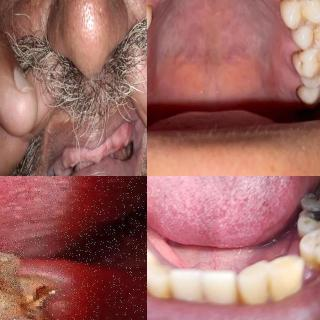cavities: (5, 267, 71, 320)
maligned: (236, 260, 274, 312)
stains: (276, 0, 310, 23), (291, 46, 317, 76), (291, 80, 317, 106), (286, 27, 310, 45), (147, 1, 158, 36)
